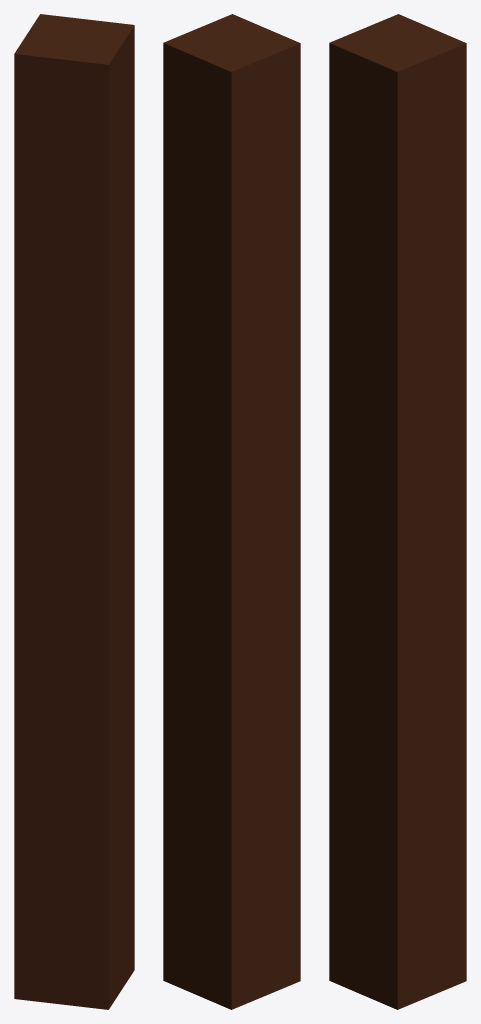
Rendered from wood_v.glb.
3 renders of one model, left to right at view 1: azimuth 90°, elevation 25°; view 2: azimuth 150°, elevation 25°; view 3: azimuth 330°, elevation 25°, orthographic.
Parts seen in each view (by area): view 1: Cube; view 2: Cube; view 3: Cube.
Part boxes in pixels (x1,y1,x2,y2): Cube: (14, 14, 134, 1009); Cube: (163, 14, 300, 1009); Cube: (329, 14, 466, 1009).
Bounding box in the file's own units: 0.1407 × 1.22 × 0.1407.
